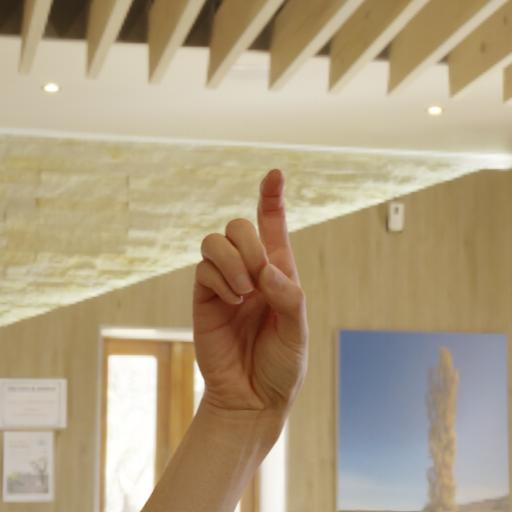X: (173, 162, 331, 430)
